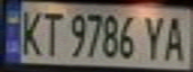6: (118, 11, 142, 61)
7: (84, 10, 106, 58)
8: (103, 10, 121, 60)
9: (63, 9, 87, 58)
A: (160, 11, 193, 62)
K: (15, 6, 45, 56)
T: (39, 7, 66, 57)
Y: (139, 11, 172, 61)
